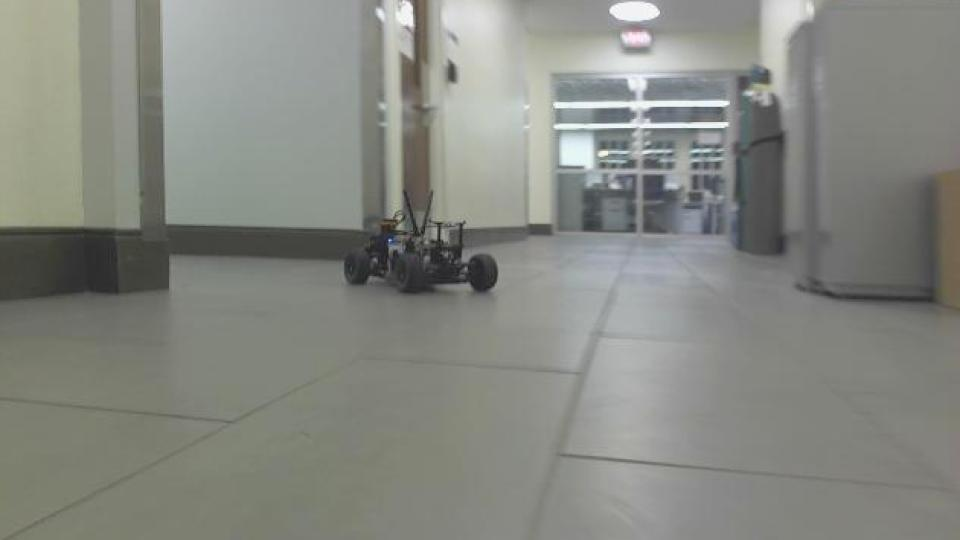car: (338, 186, 500, 296)
